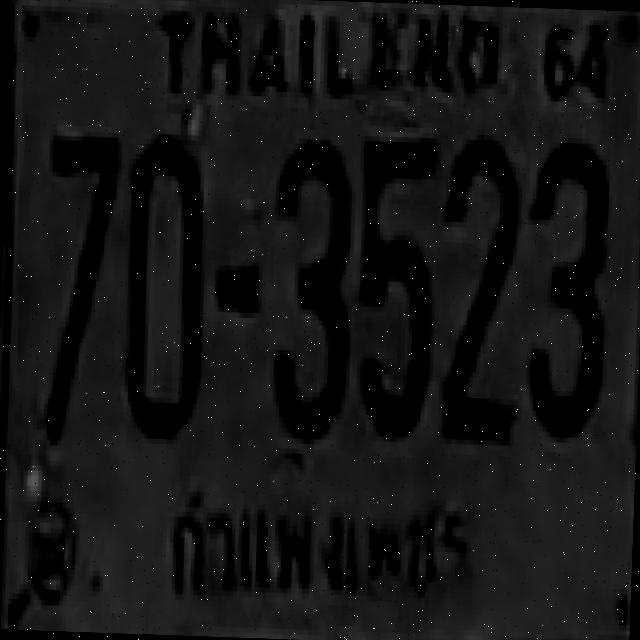0: (118, 130, 205, 437)
2: (436, 133, 522, 420), (435, 131, 520, 396)
3: (521, 136, 607, 432), (267, 135, 350, 437)
5: (352, 133, 436, 435)
7: (40, 130, 115, 426), (43, 130, 116, 374), (44, 130, 115, 308)
KamphaengPhet: (140, 472, 484, 630)
